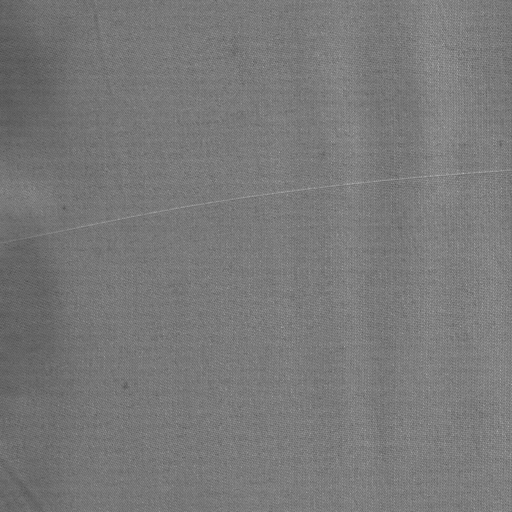defect: (2, 166, 512, 251)
